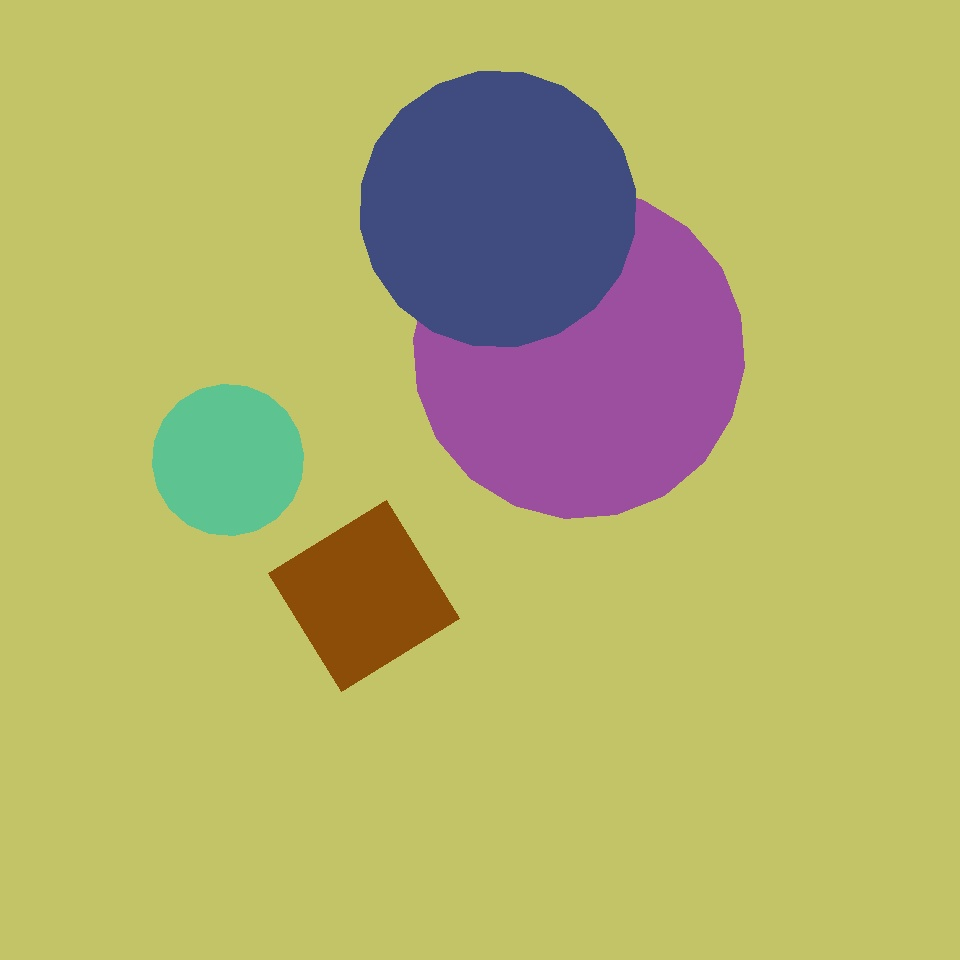square: (500, 623, 759, 882), (268, 500, 460, 692), (289, 636, 364, 711)
triangle: (414, 188, 744, 518), (361, 72, 636, 346), (478, 388, 708, 618), (152, 384, 304, 536)
